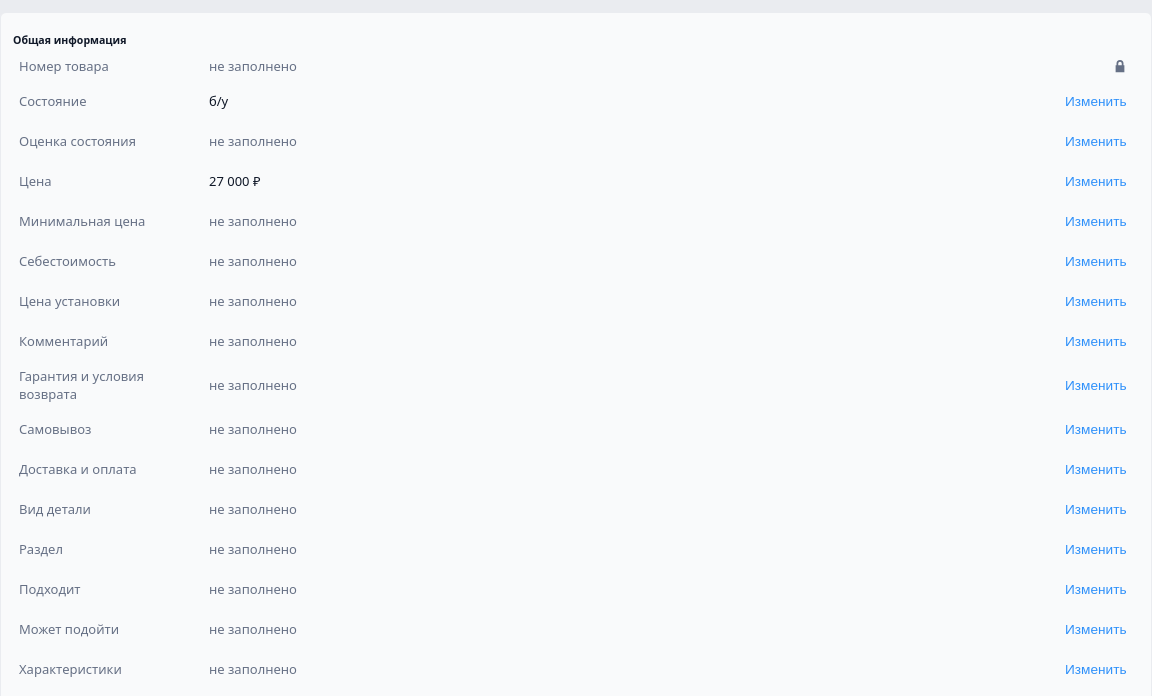
Test: операция с ценой › в карточке шесть операций, умолчание — «Изменить»
Click the button with aria-label "Изменить: Цена".
click(1096, 181)  # box [1058,167,1133,195]
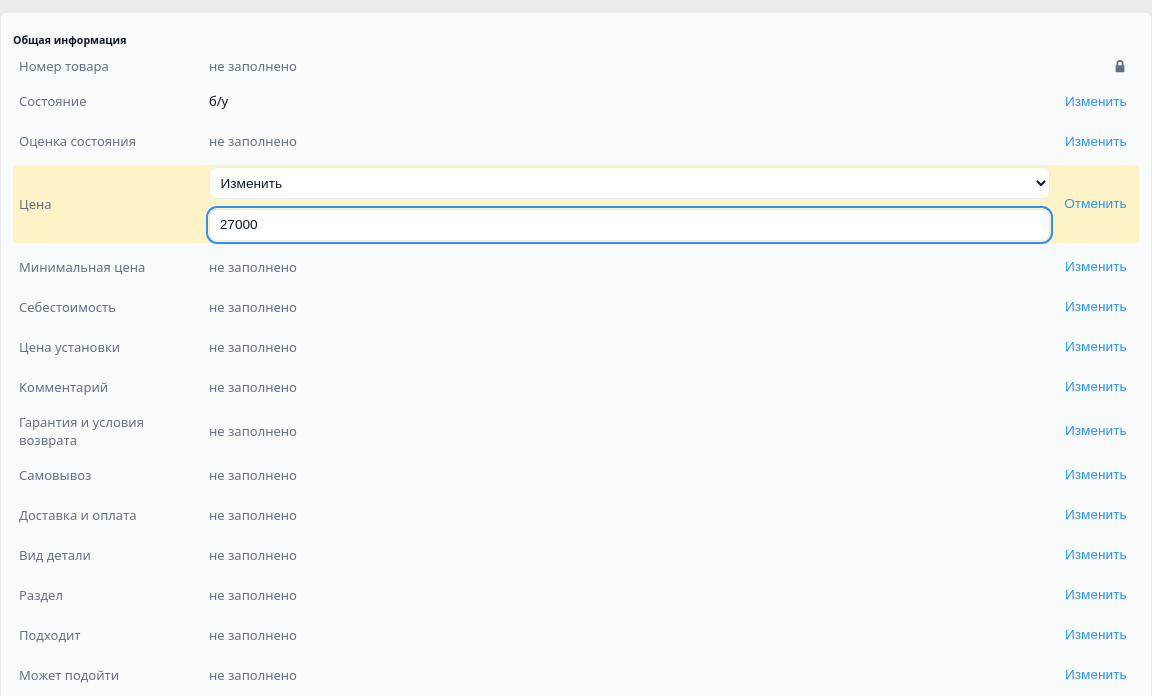
Check: the dropdown named "Операция с ценой" shows "Изменить", box [209,167,1050,199]
